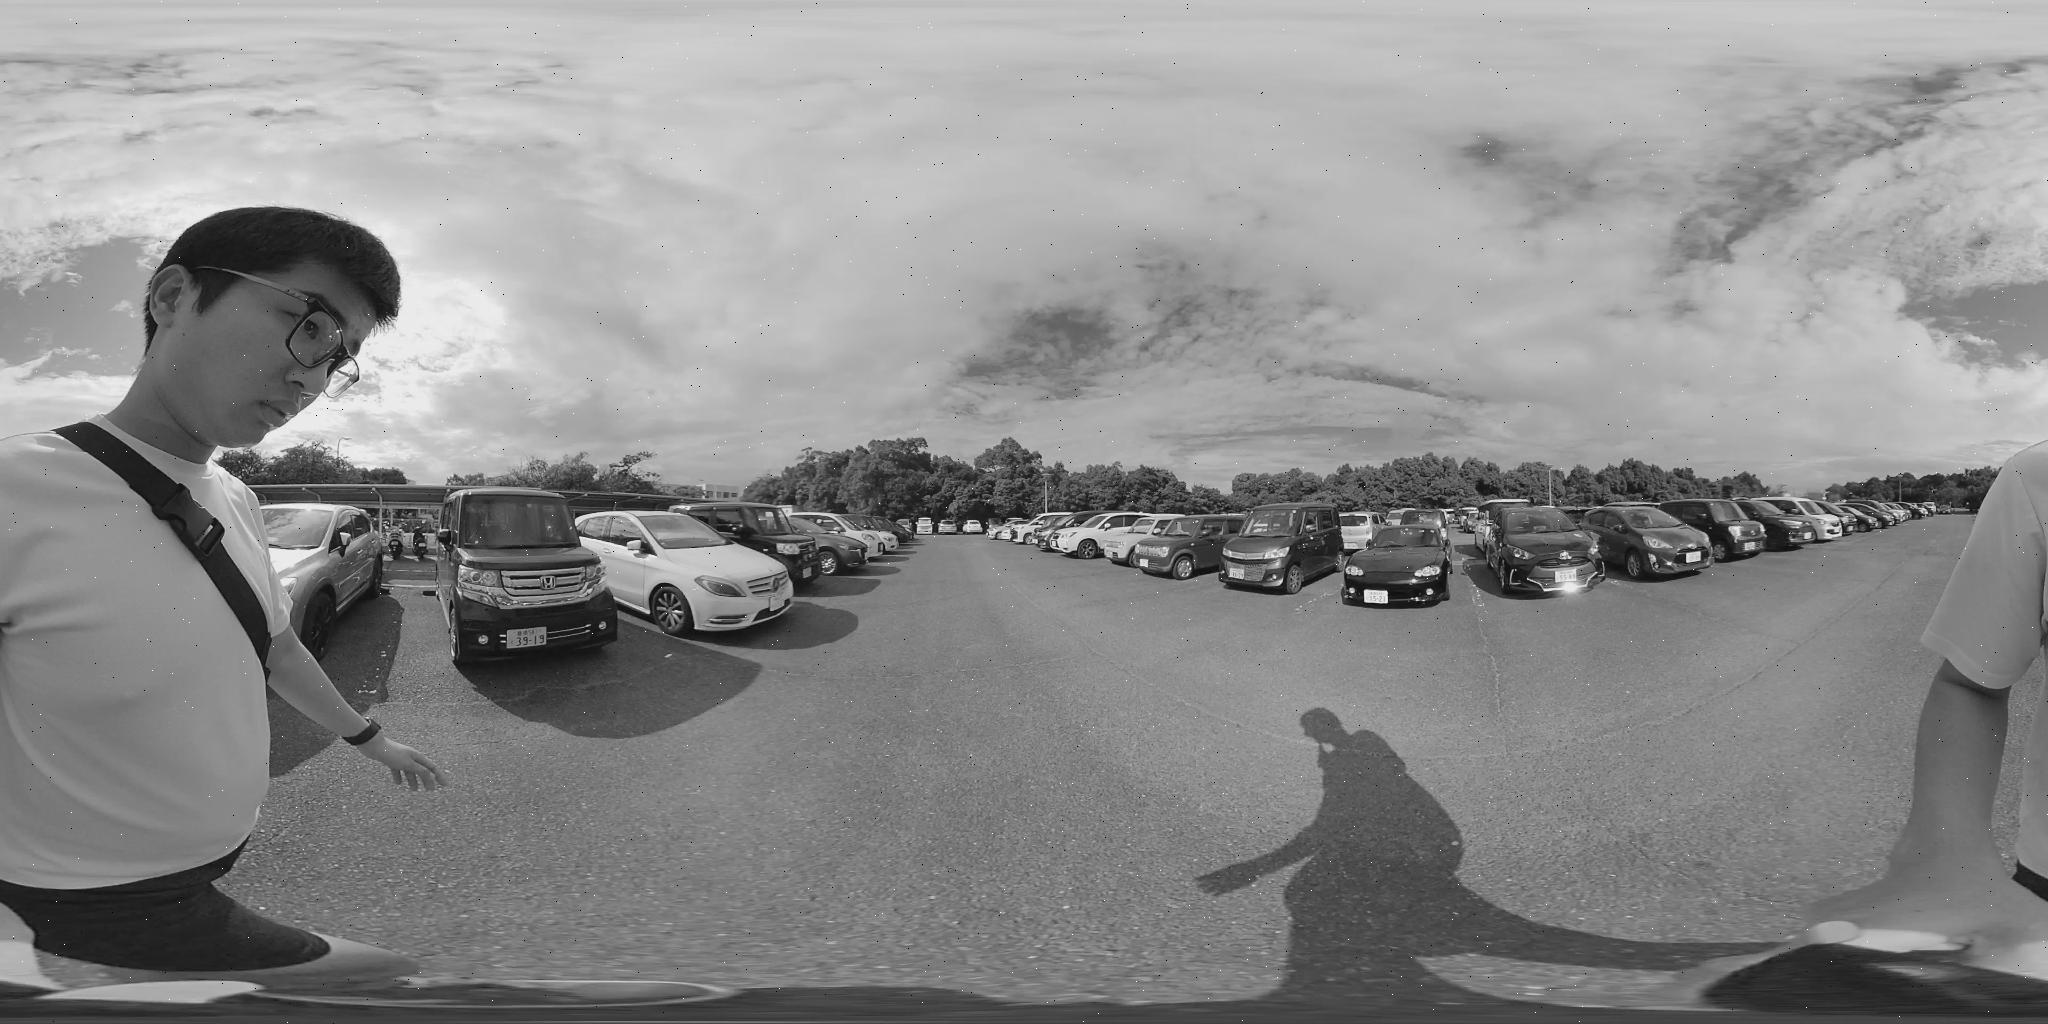car: (438, 494, 616, 656), (579, 512, 803, 636), (677, 500, 867, 580), (1224, 508, 1347, 606), (1574, 505, 1721, 581), (1486, 512, 1600, 597), (1339, 530, 1450, 610), (1122, 515, 1236, 577), (1664, 502, 1775, 562), (1050, 512, 1166, 558), (802, 516, 910, 558), (1753, 496, 1846, 542), (1783, 499, 1865, 539), (1844, 502, 1900, 526)
